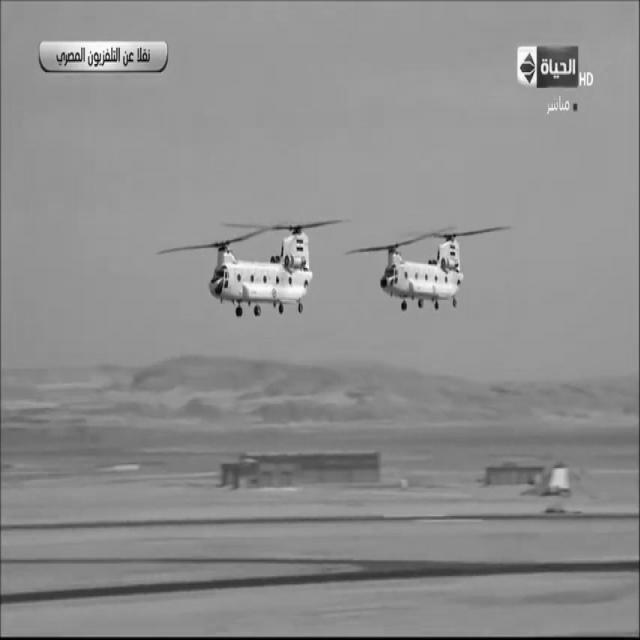helikopter: (342, 215, 481, 334), (190, 210, 324, 328)
